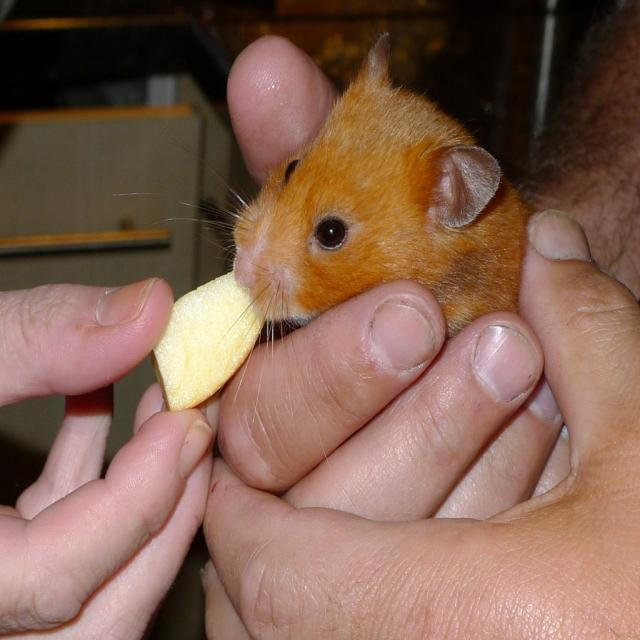rat: (229, 34, 530, 342)
